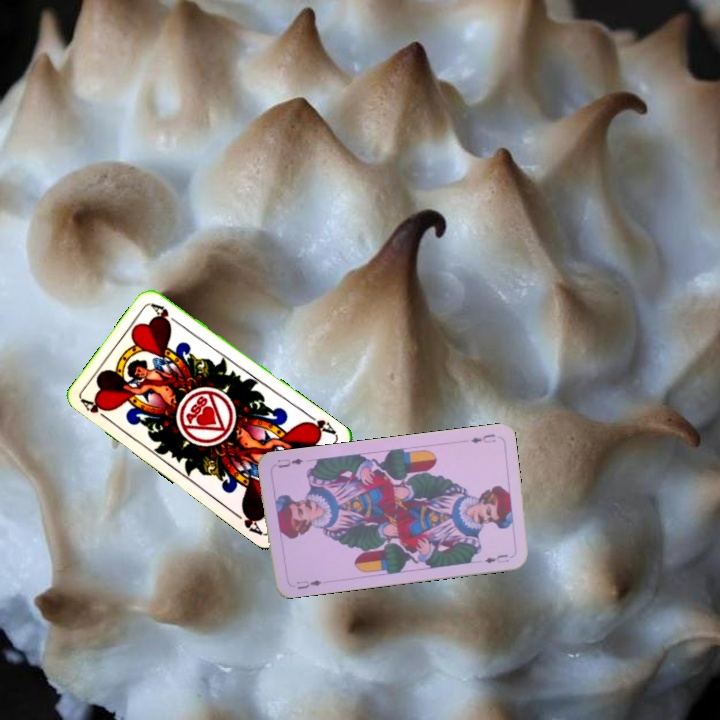EU: (292, 576, 324, 592), (467, 430, 498, 446)
HA: (301, 409, 339, 437), (78, 395, 114, 424)
